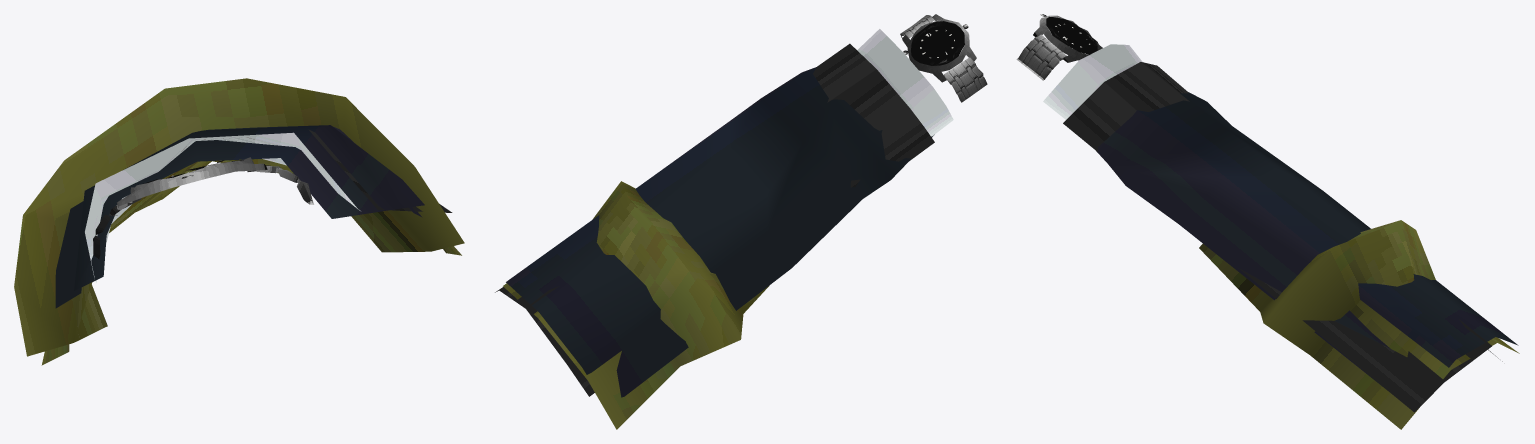
The model's file is gun_handless.glb.
3 renders of one model, left to right at view 1: azimuth 30°, elevation 25°; view 2: azimuth 150°, elevation 25°; view 3: azimuth 270°, elevation 25°, orthographic. The views are drawn at different scales.
Parts seen in each view (by area): view 1: m10ClampSClampT, m13CullBothClampSClampT, m14ClampSClampT, m9CullBothClampSClampT, m7CullBothClampSClampT, m17, m4, m11ClampSClampT; view 2: m14ClampSClampT, m10ClampSClampT, m11ClampSClampT, m7CullBothClampSClampT, m13CullBothClampSClampT, m4, m18, m17, m19ClampSClampT; view 3: m14ClampSClampT, m10ClampSClampT, m11ClampSClampT, m7CullBothClampSClampT, m13CullBothClampSClampT, m4, m9CullBothClampSClampT, m18, m17.
Part boxes in pixels (<box>): m10ClampSClampT: <box>14,78,464,365</box>; m13CullBothClampSClampT: <box>74,127,396,290</box>; m14ClampSClampT: <box>55,125,424,308</box>; m9CullBothClampSClampT: <box>74,159,430,342</box>; m7CullBothClampSClampT: <box>85,132,360,282</box>; m17: <box>117,157,270,208</box>; m4: <box>93,166,313,259</box>; m11ClampSClampT: <box>308,129,452,212</box>; m14ClampSClampT: <box>506,72,890,397</box>; m10ClampSClampT: <box>503,181,743,429</box>; m11ClampSClampT: <box>495,43,934,396</box>; m7CullBothClampSClampT: <box>857,29,953,136</box>; m13CullBothClampSClampT: <box>802,67,934,179</box>; m4: <box>900,15,987,102</box>; m18: <box>915,23,964,65</box>; m17: <box>902,14,976,82</box>; m19ClampSClampT: <box>911,21,964,65</box>; m14ClampSClampT: <box>1107,98,1518,390</box>; m10ClampSClampT: <box>1260,220,1519,429</box>; m11ClampSClampT: <box>1063,62,1502,412</box>; m7CullBothClampSClampT: <box>1043,44,1142,119</box>; m13CullBothClampSClampT: <box>1096,92,1206,163</box>; m4: <box>1016,34,1102,80</box>; m9CullBothClampSClampT: <box>1199,244,1271,311</box>; m18: <box>1047,17,1097,53</box>; m17: <box>1033,15,1102,62</box>.
Bounding box in the file's own units: 256 × 207 × 304.
17 materials, 17 textured.
